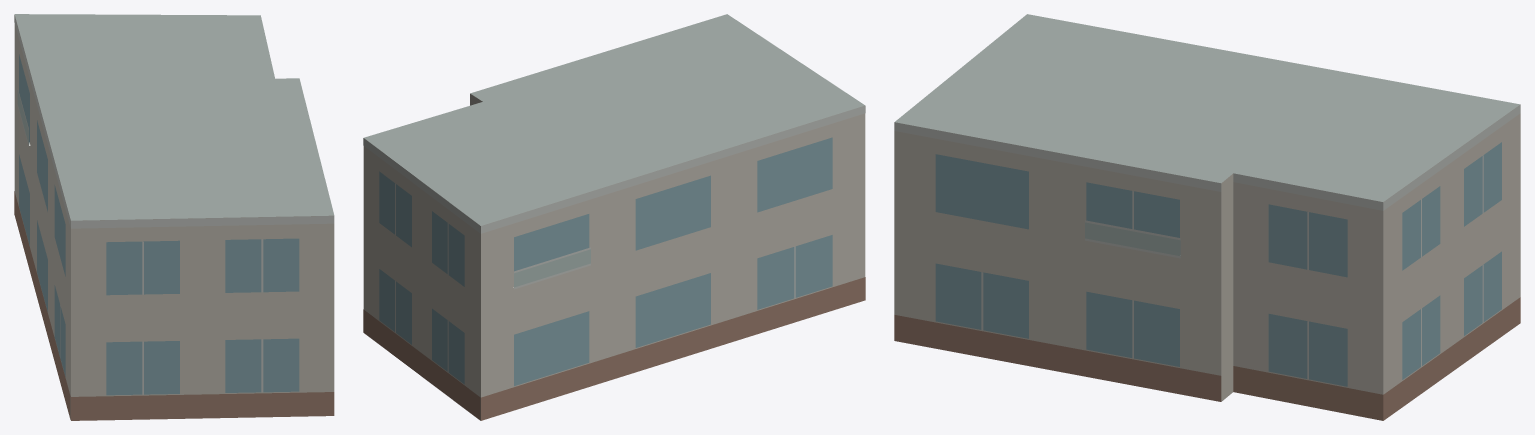
The model's file is survey-upis-32477955.glb.
The picture shows the model from 3 angles, left to right: view 1: azimuth 30°, elevation 25°; view 2: azimuth 150°, elevation 25°; view 3: azimuth 270°, elevation 25°; orthographic projection. The views are drawn at different scales.
Parts seen in each view (by area): view 1: survey-upis-32477955.tmp; view 2: survey-upis-32477955.tmp; view 3: survey-upis-32477955.tmp.
Part boxes in pixels (x1,y1,x2,y2): survey-upis-32477955.tmp: (14,14,334,420); survey-upis-32477955.tmp: (363,14,865,420); survey-upis-32477955.tmp: (894,14,1520,420).
Bounding box in the file's own units: 11.26 × 6.1 × 15.84.
